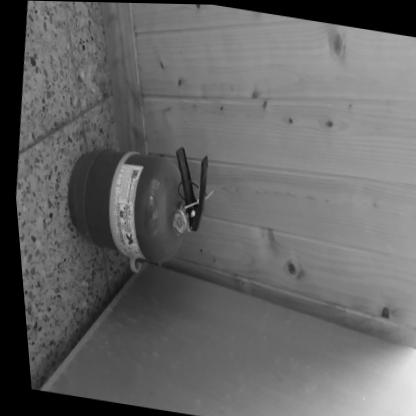FE: (53, 131, 213, 264)
